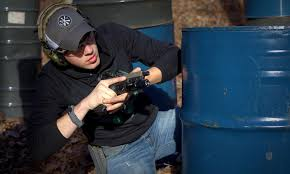Gun: (94, 71, 151, 108)
